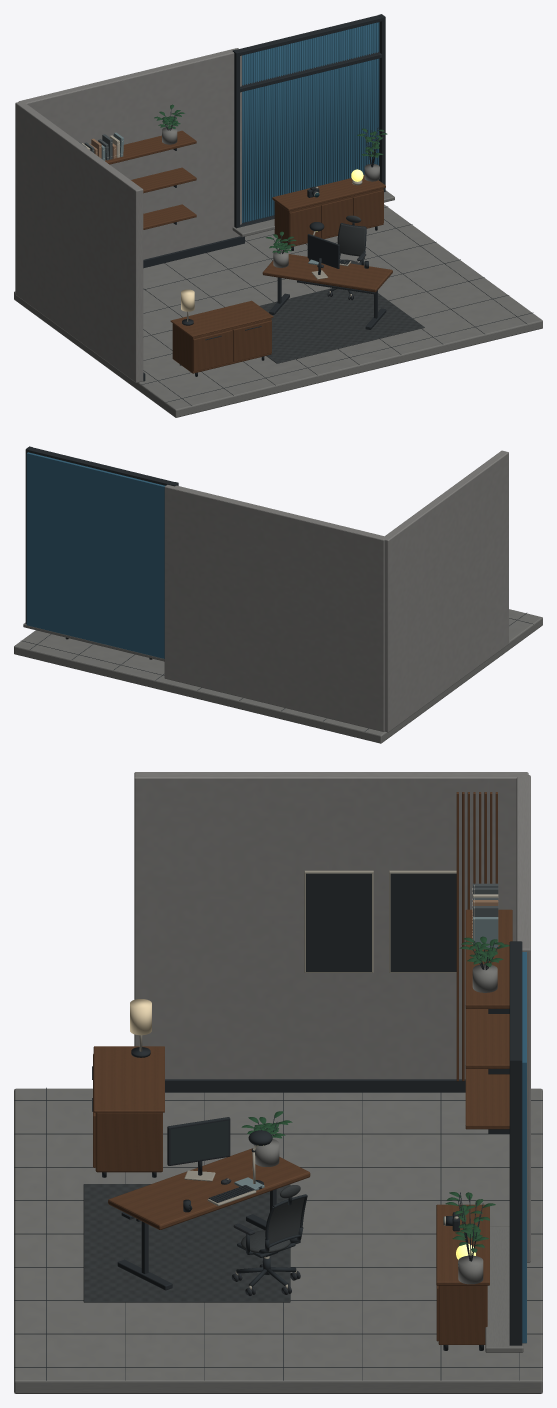
The model's file is room-packed.glb.
3 views of the same model, one above another, from view 1: azimuth 30°, elevation 25°; view 2: azimuth 150°, elevation 25°; view 3: azimuth 270°, elevation 25° (orthographic). The views are drawn at different scales.
Parts seen in each view (by area): view 1: room_detail_Graphite mineral plaster, room_detail_Honed charcoal stone, room_detail_Blue smoked fluted glazing, room_detail_Powder coated graphite, room_detail_Walnut • satin oiled end grain, Woven studio rug, record_console, desk, chair, library_books, Window plant, Shelf plant (+1 smaller); view 2: room_detail_Graphite mineral plaster, room_detail_Blue smoked fluted glazing, room_detail_Honed charcoal stone, room_detail_Powder coated graphite; view 3: room_detail_Honed charcoal stone, room_detail_Graphite mineral plaster, room_detail_Powder coated graphite, room_detail_Walnut • satin oiled end grain, Woven studio rug, record_console, desk, chair, monitor_screen, room_detail_Blue smoked fluted glazing, Window plant, room_detail_Brushed warm aluminum (+4 smaller).
Part boxes in pixels (x1=…): room_detail_Graphite mineral plaster: x1=15, y1=48, x2=241, y2=382; room_detail_Honed charcoal stone: x1=14, y1=190, x2=542, y2=417; room_detail_Blue smoked fluted glazing: x1=242, y1=22, x2=379, y2=223; room_detail_Powder coated graphite: x1=141, y1=14, x2=533, y2=405; room_detail_Walnut • satin oiled end grain: x1=105, y1=130, x2=385, y2=247; Woven studio rug: x1=259, y1=288, x2=424, y2=363; record_console: x1=170, y1=300, x2=273, y2=376; desk: x1=262, y1=254, x2=392, y2=329; chair: x1=327, y1=215, x2=366, y2=300; library_books: x1=79, y1=132, x2=123, y2=160; Window plant: x1=357, y1=127, x2=387, y2=181; Shelf plant: x1=154, y1=104, x2=184, y2=144; room_detail_Graphite mineral plaster: x1=164, y1=450, x2=508, y2=732; room_detail_Blue smoked fluted glazing: x1=26, y1=452, x2=165, y2=658; room_detail_Honed charcoal stone: x1=14, y1=609, x2=542, y2=743; room_detail_Powder coated graphite: x1=21, y1=446, x2=533, y2=731; room_detail_Honed charcoal stone: x1=14, y1=1088, x2=542, y2=1393; room_detail_Graphite mineral plaster: x1=134, y1=772, x2=530, y2=1262; room_detail_Powder coated graphite: x1=14, y1=873, x2=542, y2=1380; room_detail_Walnut • satin oiled end grain: x1=436, y1=792, x2=512, y2=1344; Woven studio rug: x1=83, y1=1184, x2=290, y2=1302; record_console: x1=92, y1=1046, x2=164, y2=1177; desk: x1=108, y1=1148, x2=310, y2=1290; chair: x1=232, y1=1185, x2=307, y2=1295; monitor_screen: x1=170, y1=1120, x2=228, y2=1164; room_detail_Blue smoked fluted glazing: x1=522, y1=952, x2=526, y2=1343; Window plant: x1=445, y1=1192, x2=495, y2=1284; room_detail_Brushed warm aluminum: x1=139, y1=870, x2=458, y2=1266.
Size of the model in its own units: 7.25 by 3.79 by 5.5.
Materials: 18 (4 with a texture image).
